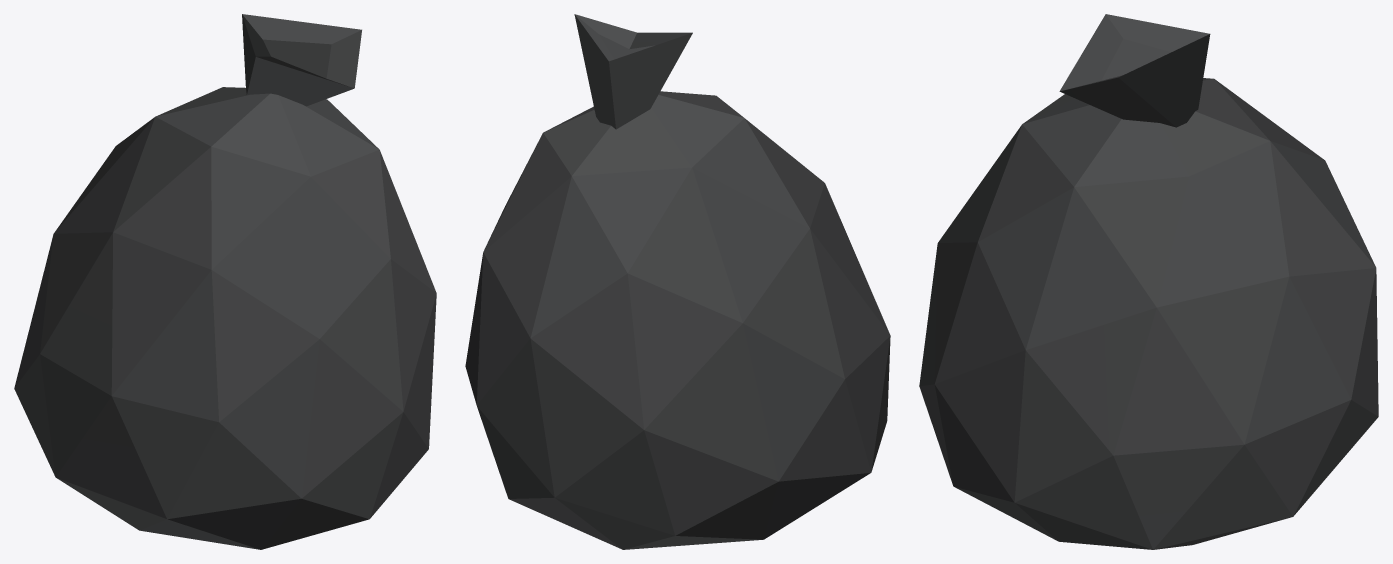
Rendered from SM_trash_sack_01.fbx.
The picture shows the model from 3 angles, left to right: view 1: azimuth 30°, elevation 25°; view 2: azimuth 150°, elevation 25°; view 3: azimuth 270°, elevation 25°; orthographic projection. The views are drawn at different scales.
Visible parts, largest first — view 1: Cylinder030; view 2: Cylinder030; view 3: Cylinder030.
Part boxes in pixels (<box>): Cylinder030: <box>14,14,436,549</box>; Cylinder030: <box>465,14,890,549</box>; Cylinder030: <box>919,14,1378,549</box>.
Size of the model in its own units: 22.53 by 27.6 by 23.1.
